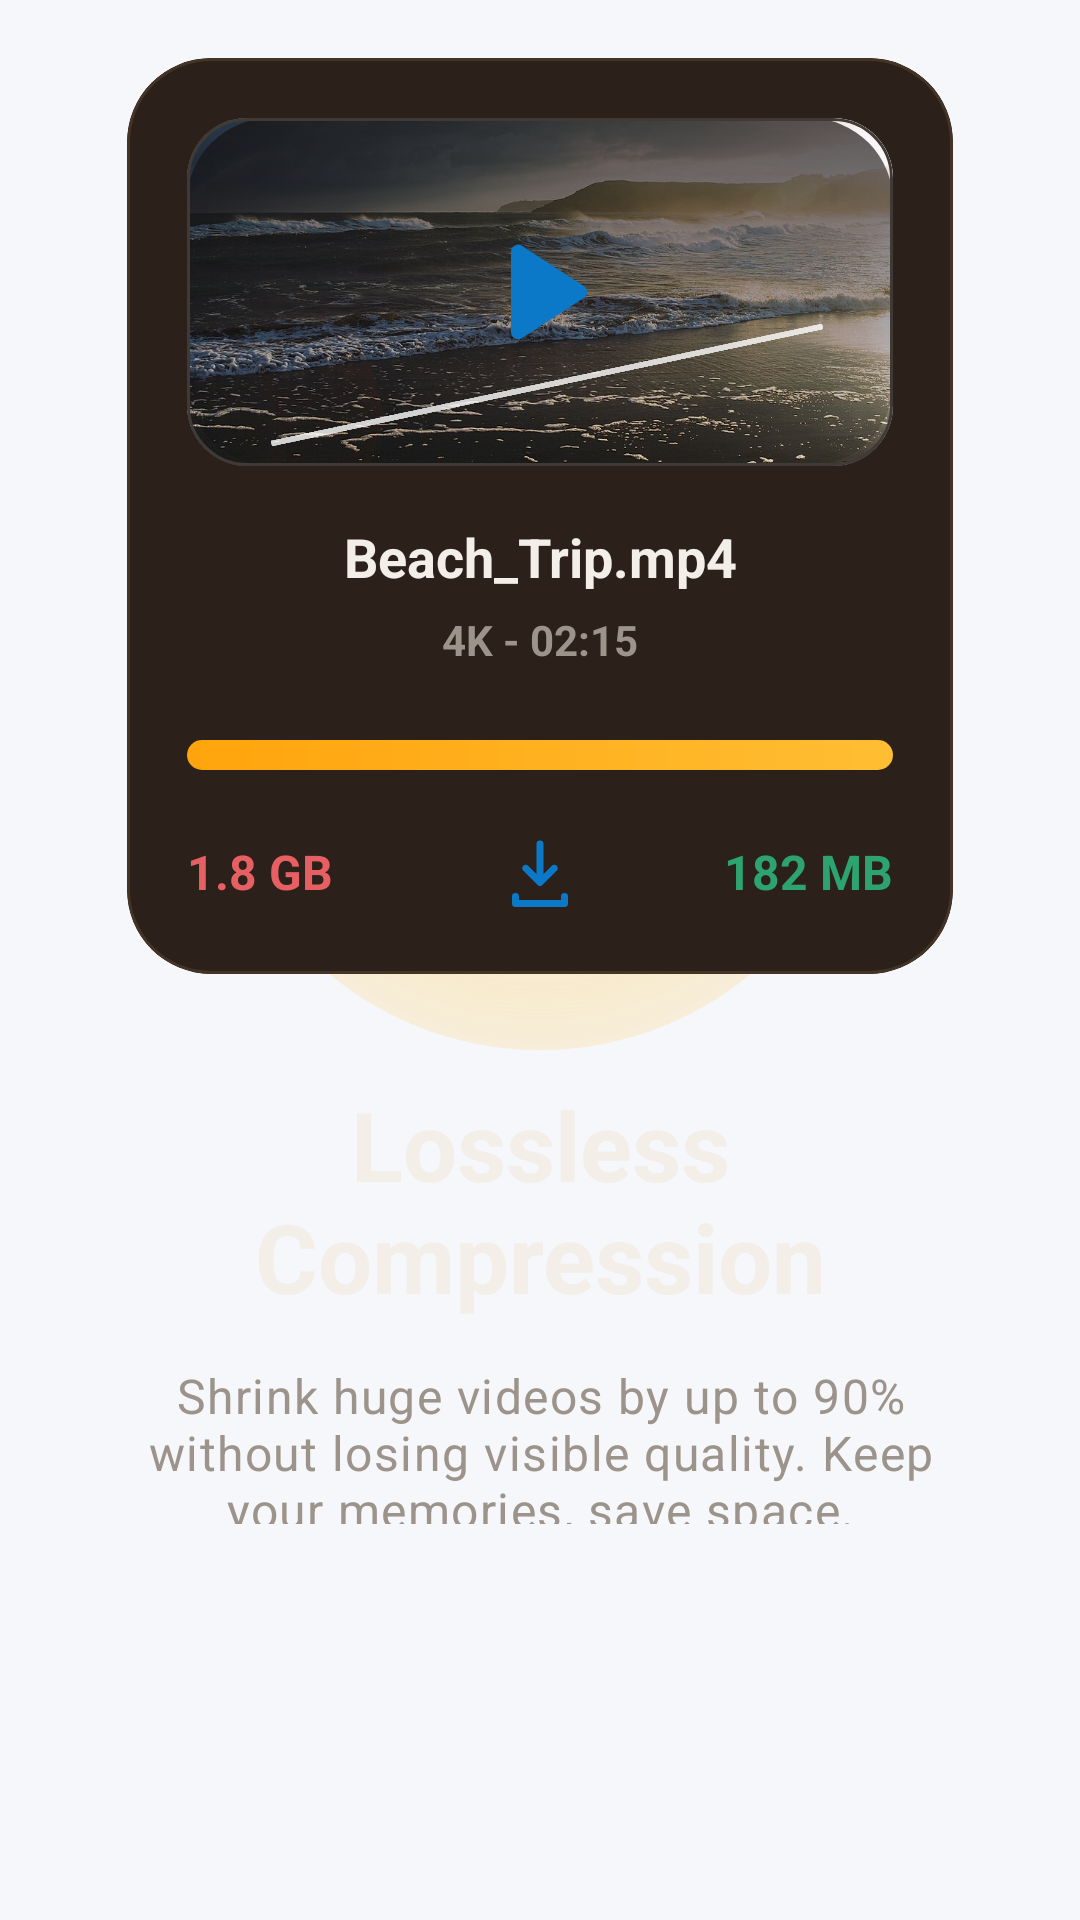

Locate icon controls on the screen. Image size 1080*1920, boxes as (x1, y1, x2, y2).
download: (512, 840, 568, 907)
